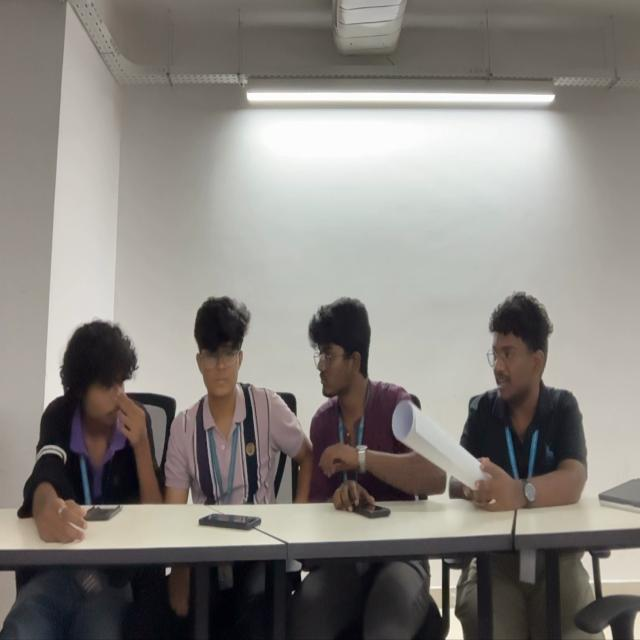Isolated: (458, 294, 586, 496)
socializing: (22, 296, 446, 530)
